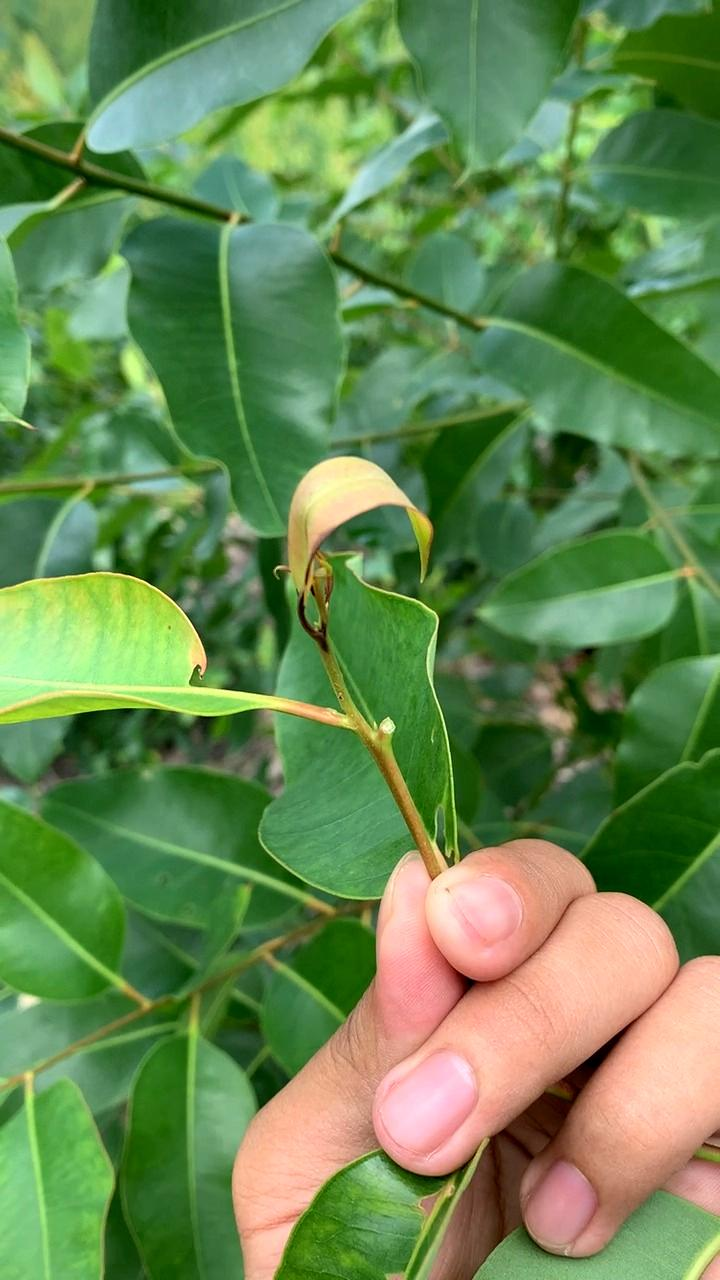Helopeltis-Withered Sprout: (261, 438, 441, 649)
